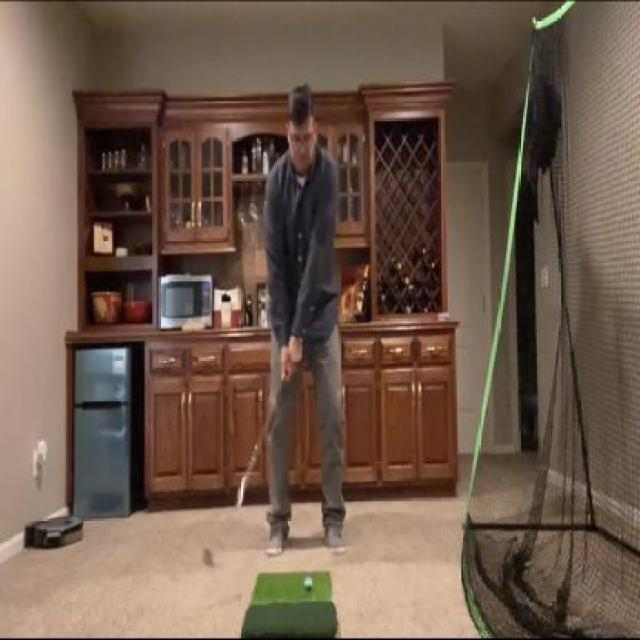club head: (201, 543, 224, 575)
